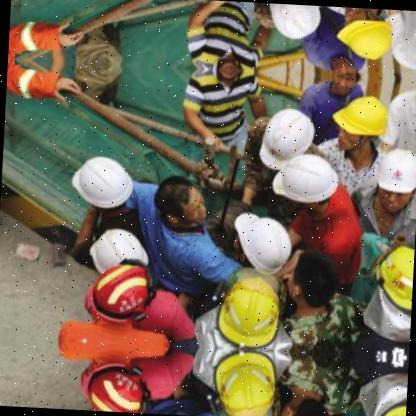capacete: (208, 272, 286, 354), (63, 139, 140, 214), (228, 204, 296, 280), (84, 252, 156, 322), (260, 152, 343, 212), (256, 103, 318, 173), (369, 230, 415, 318), (328, 91, 392, 146), (369, 142, 416, 210)
